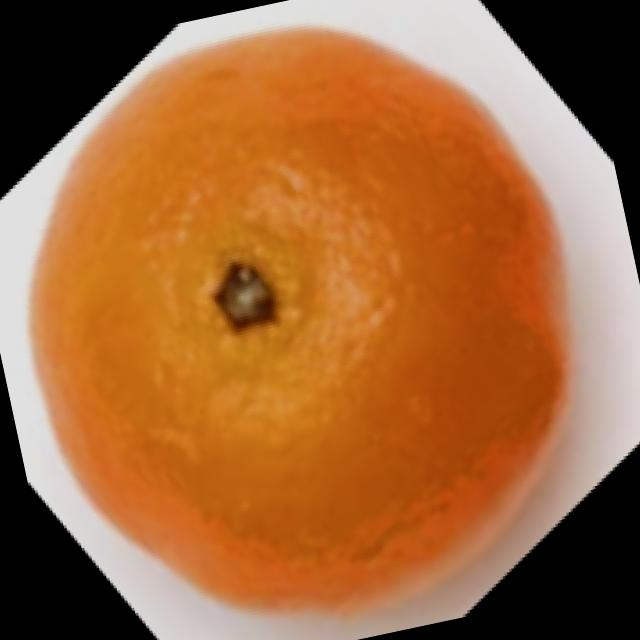orange: (0, 0, 629, 640)
